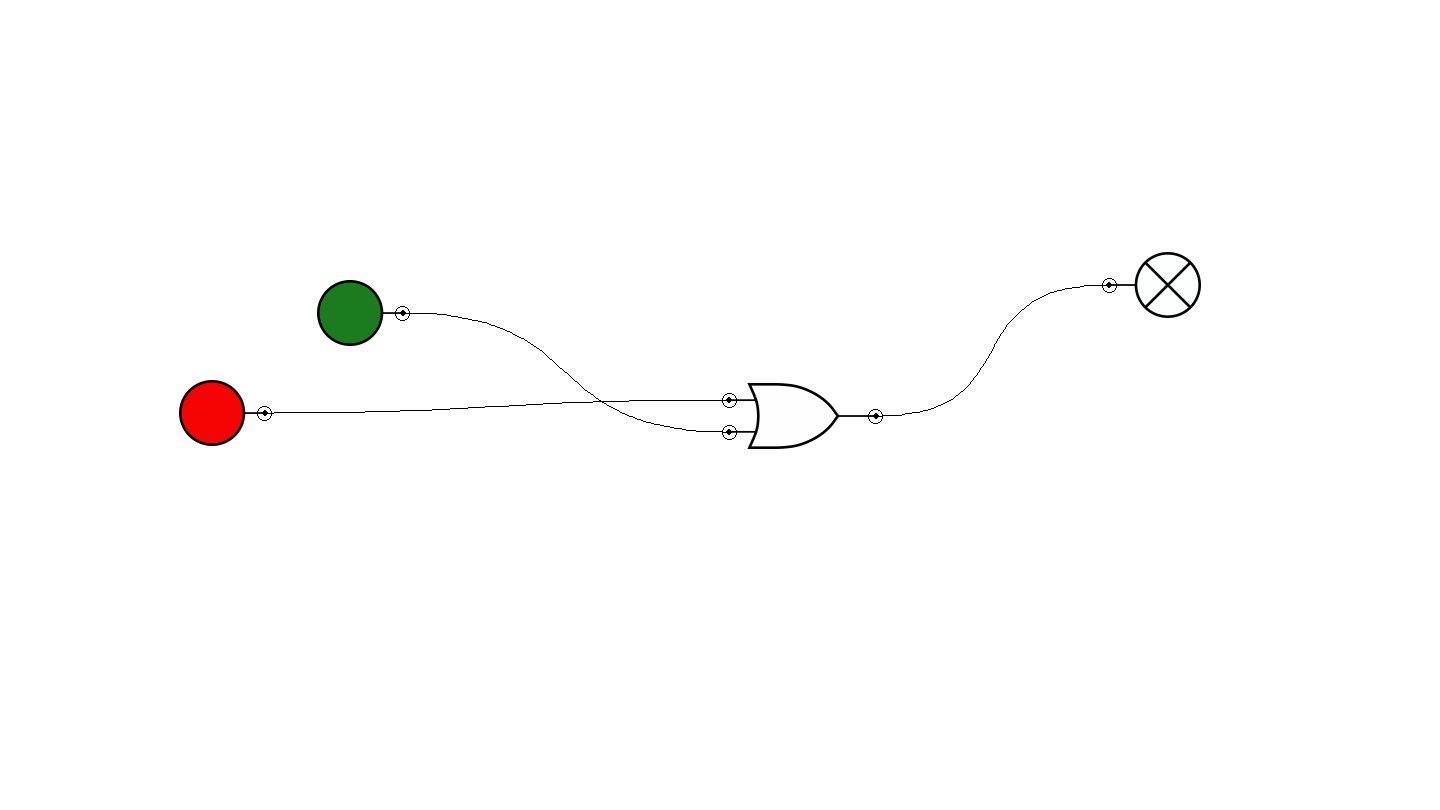bulb: (1102, 252, 1201, 318)
or: (722, 383, 883, 449)
switch_False: (179, 380, 272, 446)
switch_True: (317, 280, 410, 346)
